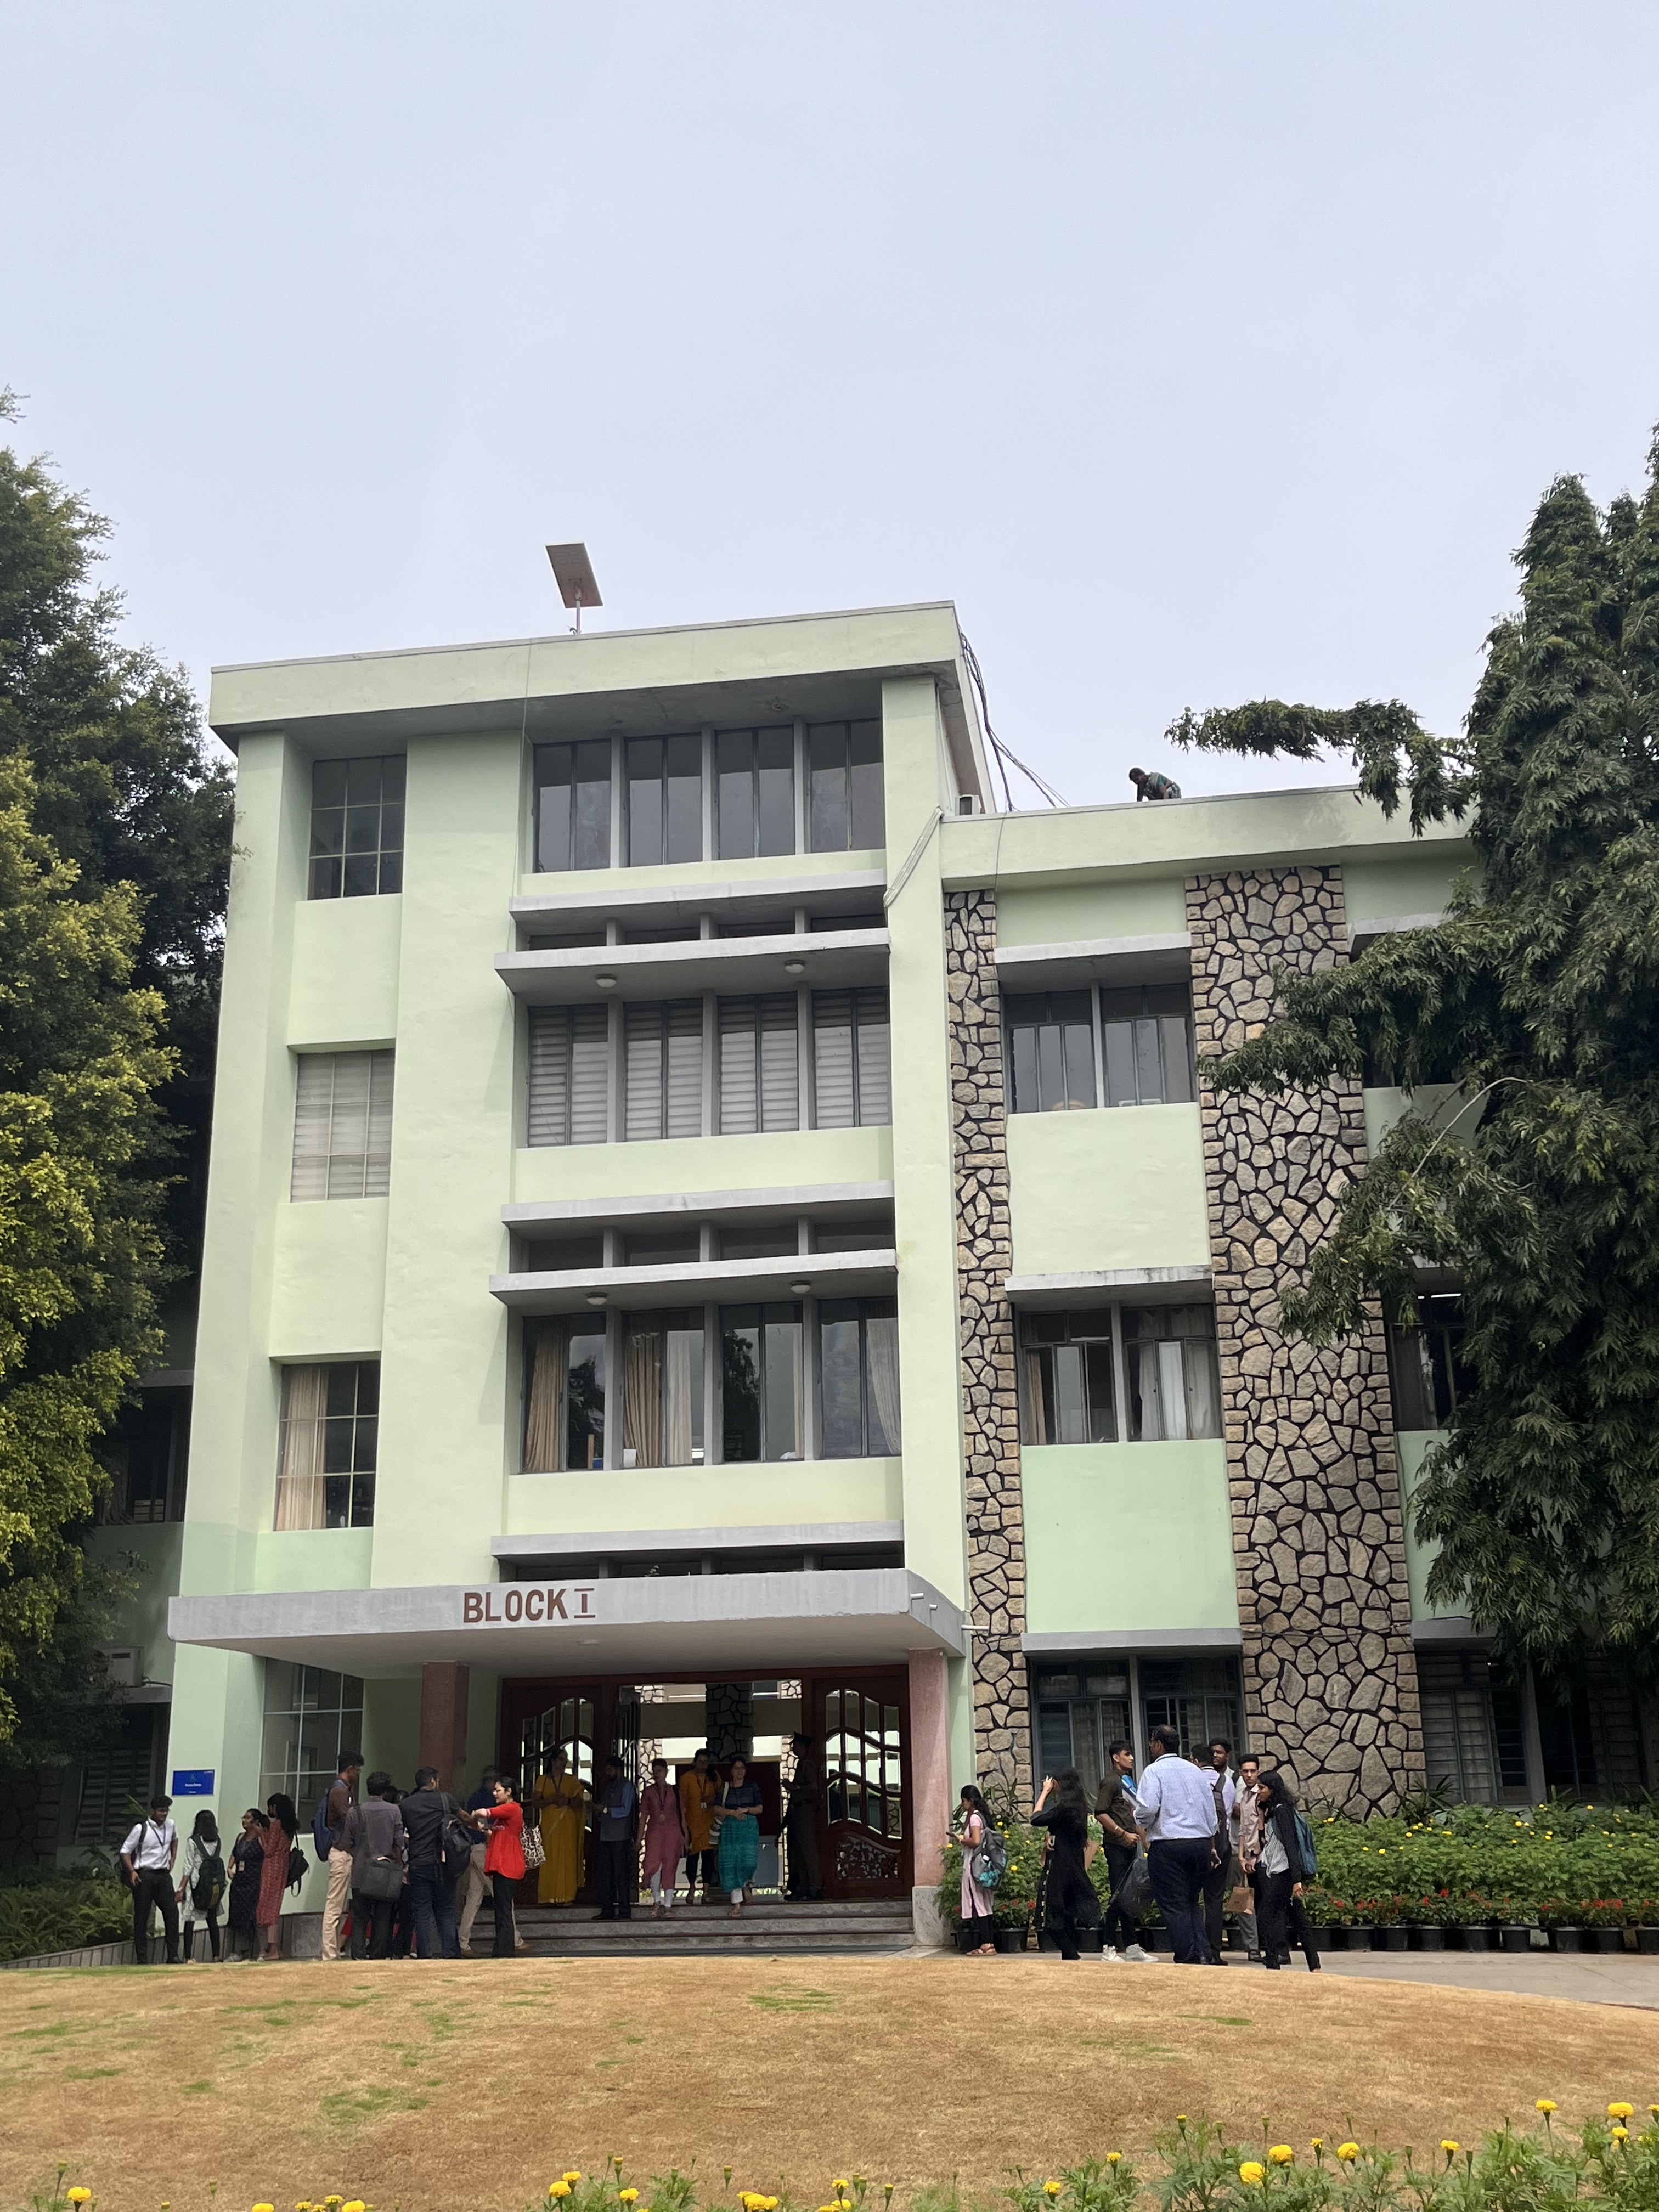Block 1: (195, 557, 1431, 1728)
